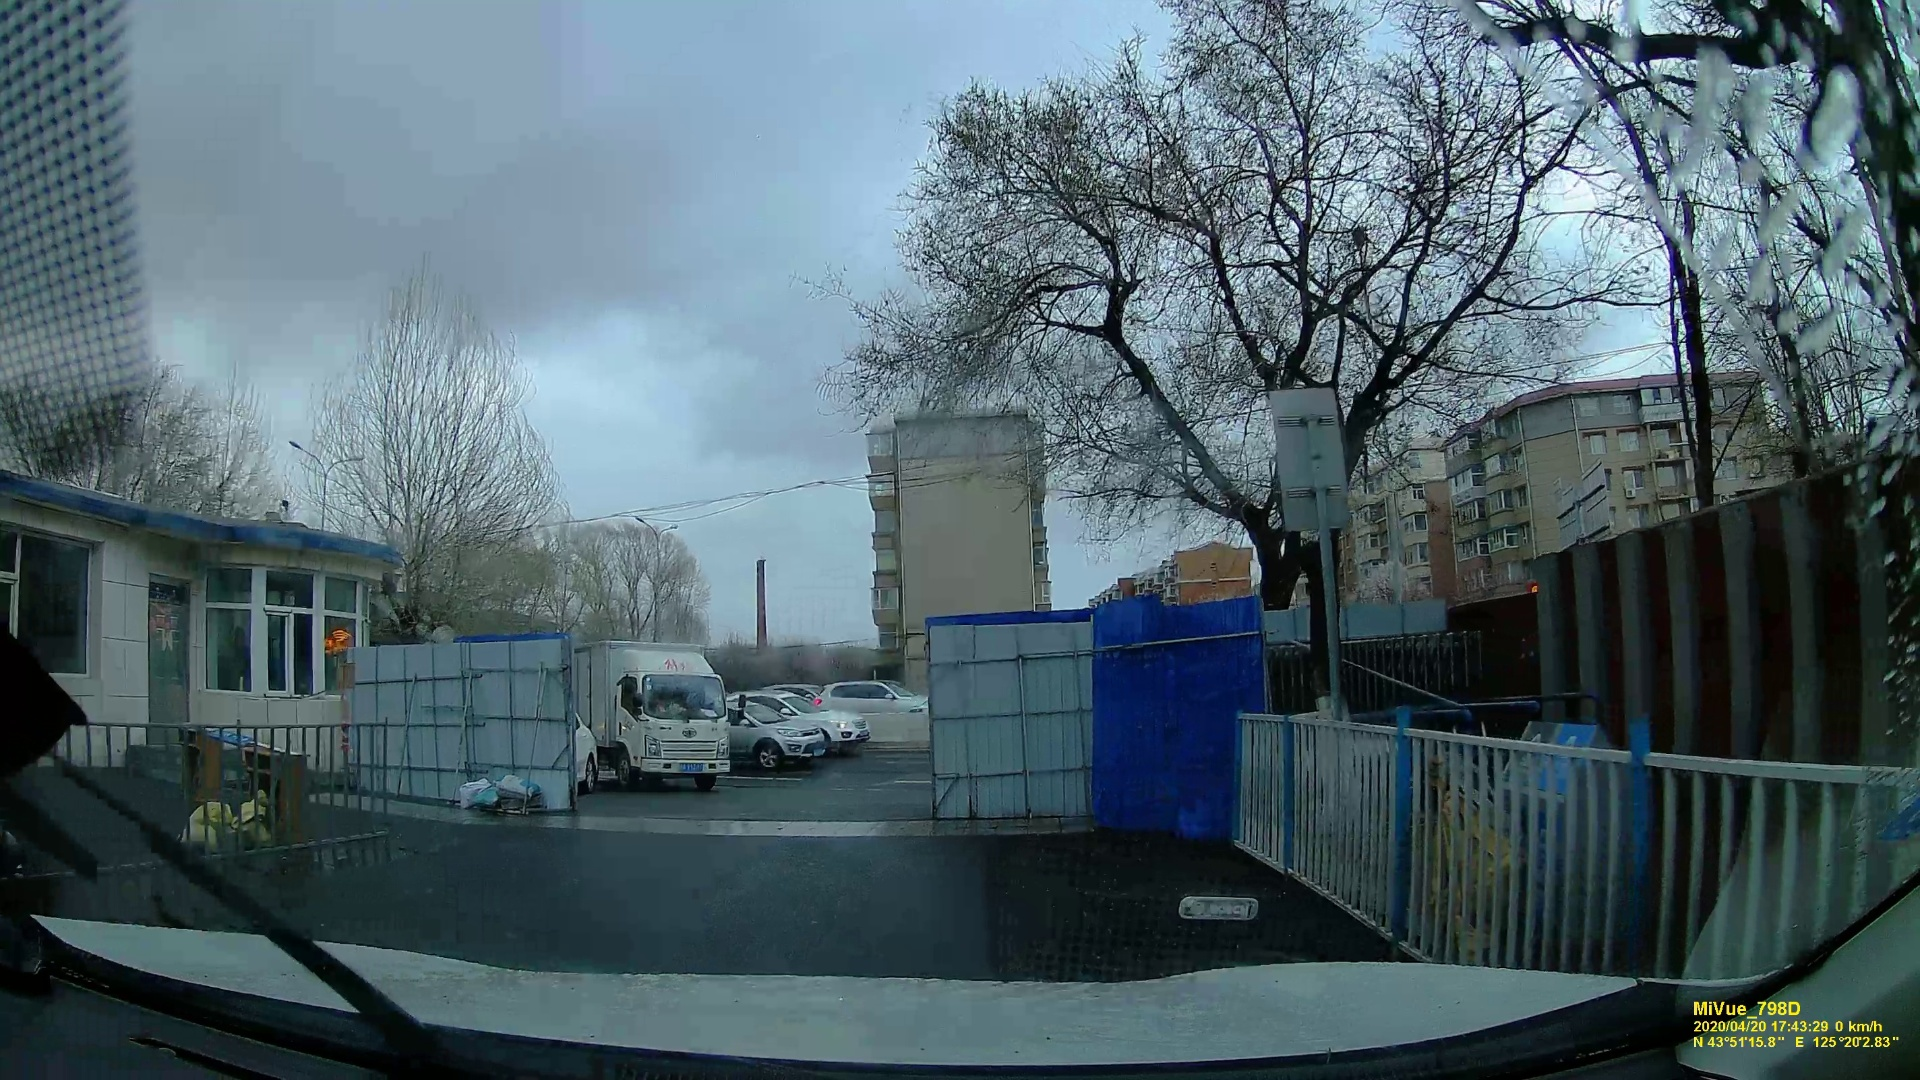truck: (574, 638, 725, 793)
vehicle: (727, 702, 823, 766), (783, 688, 870, 756), (823, 680, 924, 711)
